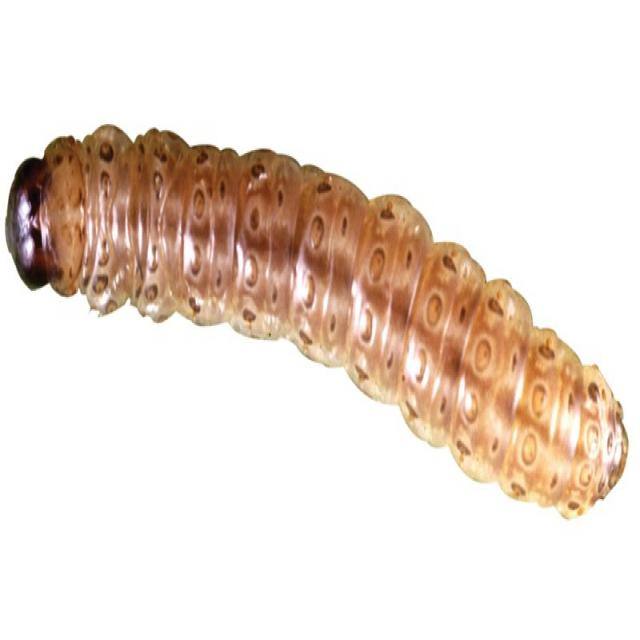cornborer-Larva-: (9, 101, 630, 534)
